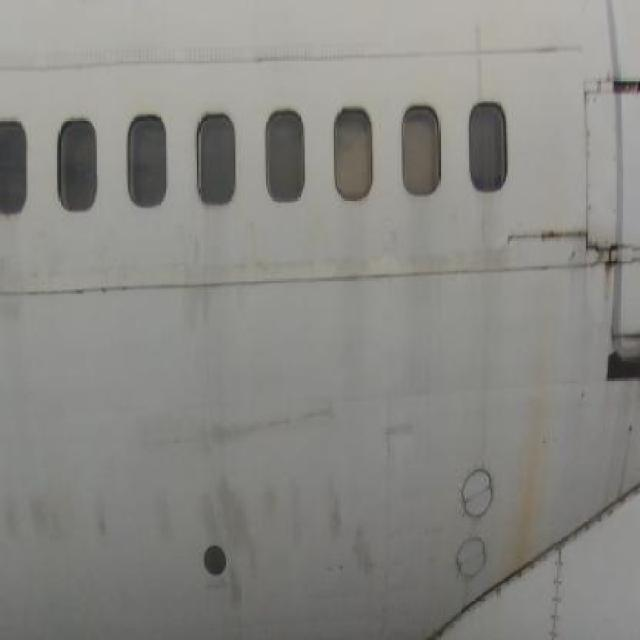Missing-Rivet: (574, 70, 611, 208)
Rust: (509, 316, 563, 587)
Scartch: (501, 213, 640, 275)
